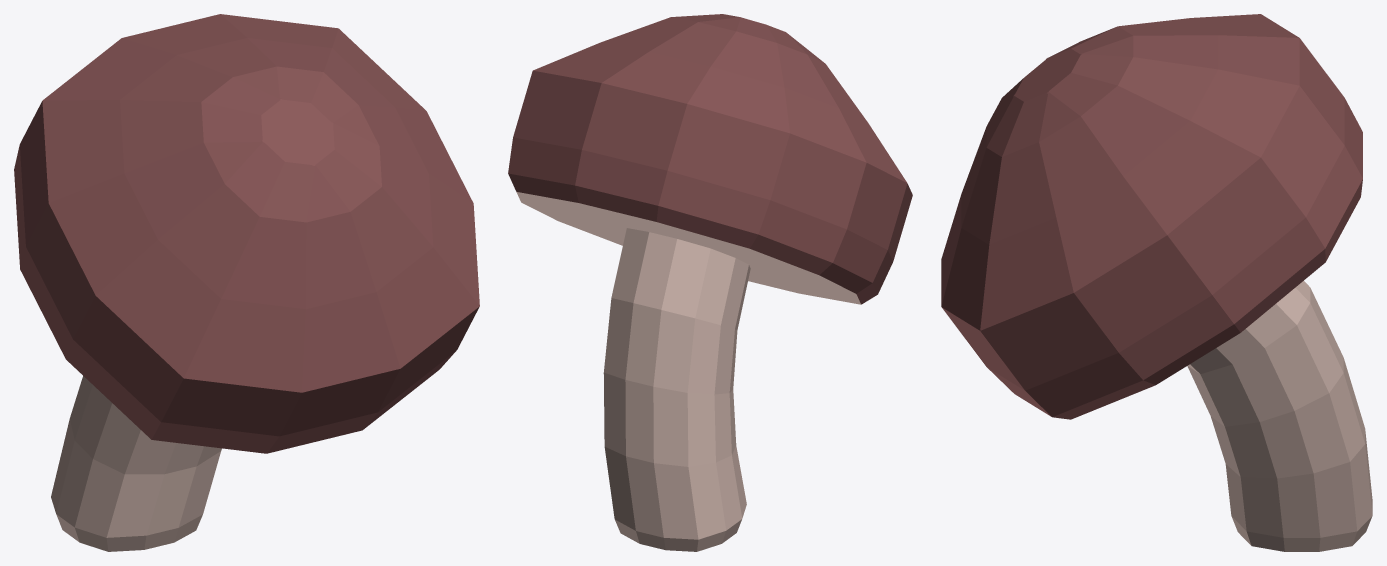
File: Mushroom2.2.fbx
3 views of the same model, side by side, from view 1: azimuth 30°, elevation 25°; view 2: azimuth 150°, elevation 25°; view 3: azimuth 270°, elevation 25° (orthographic). The views are drawn at different scales.
Parts seen in each view (by area): view 1: Mushroom2.5; view 2: Mushroom2.5; view 3: Mushroom2.5.
Boxes of the visible parts, box(x1,y1,x2,y2) form: Mushroom2.5: box(14, 14, 479, 551); Mushroom2.5: box(508, 14, 912, 551); Mushroom2.5: box(941, 14, 1372, 551).
Size of the model in its own units: 122 by 155 by 121.
